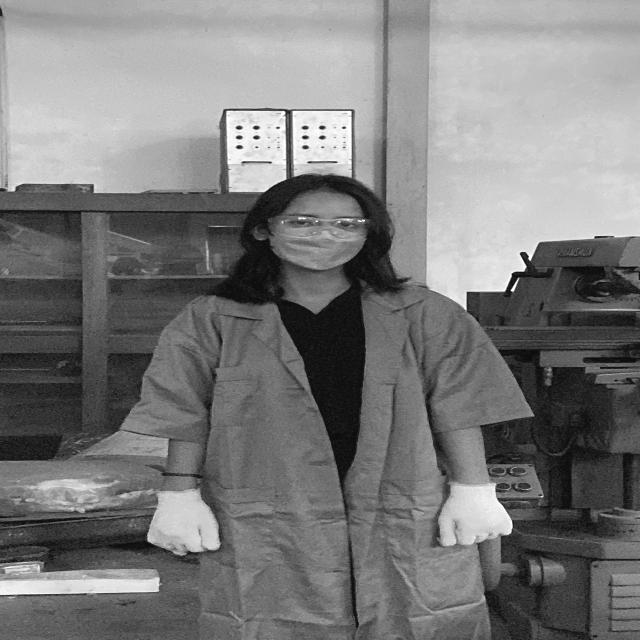face_mask: (267, 213, 373, 271)
glasses: (264, 213, 381, 239)
hand_glove: (435, 479, 518, 548), (139, 491, 227, 555)
head_nohelmet: (263, 170, 383, 208)
person: (129, 168, 536, 640)
